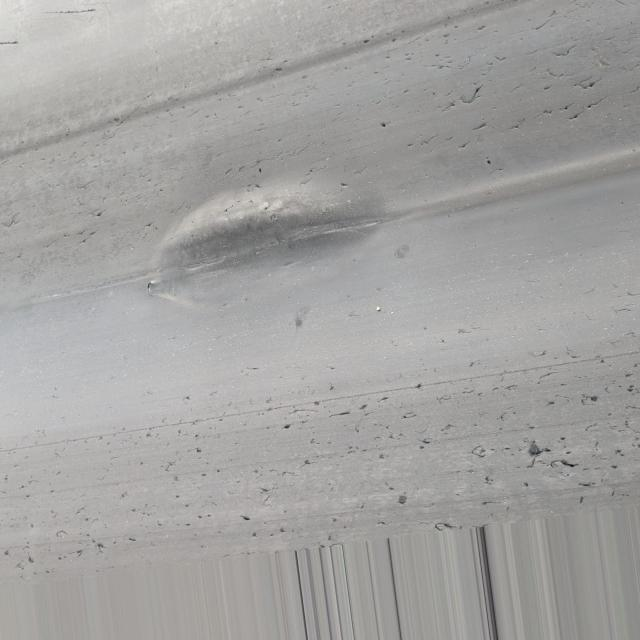impact damage: (153, 171, 378, 300)
